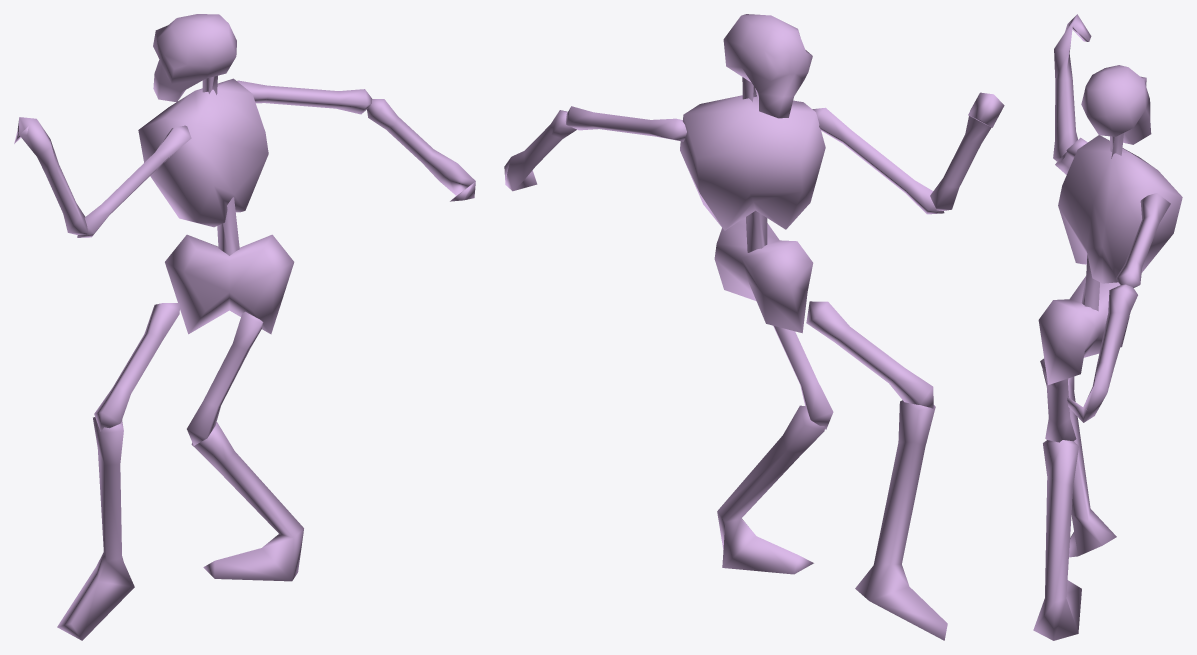
3 views of the same model, side by side, from view 1: azimuth 30°, elevation 25°; view 2: azimuth 150°, elevation 25°; view 3: azimuth 270°, elevation 25° (orthographic). The views are drawn at different scales.
Visible parts, largest first — view 1: Object35; view 2: Object35; view 3: Object35.
Boxes of the visible parts, bbox=[...] form: Object35: bbox=[14, 14, 475, 640]; Object35: bbox=[504, 14, 1004, 640]; Object35: bbox=[1033, 14, 1182, 640].
Size of the model in its own units: 15096 by 17614 by 4304.
